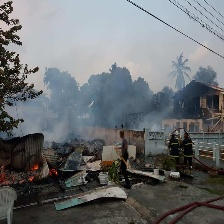smoke: (3, 68, 180, 133)
